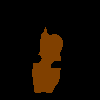vestito: (31, 26, 62, 93)
